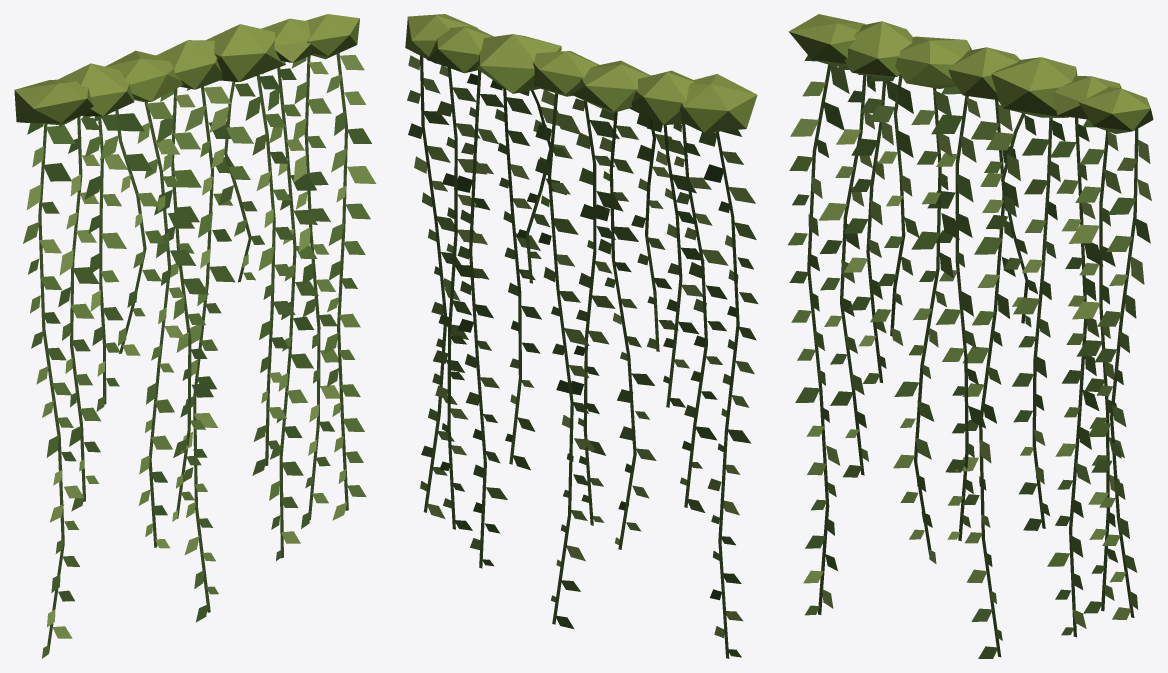
File: wf_vines.glb
3 renders of one model, left to right at view 1: azimuth 30°, elevation 25°; view 2: azimuth 150°, elevation 25°; view 3: azimuth 330°, elevation 25°, orthographic. The views are drawn at different scales.
Parts seen in each view (by area): view 1: wf_vines; view 2: wf_vines; view 3: wf_vines.
Boxes of the visible parts, x1=… form: wf_vines: x1=14, y1=14, x2=376, y2=658; wf_vines: x1=405, y1=14, x2=758, y2=658; wf_vines: x1=788, y1=14, x2=1153, y2=658.
Size of the model in its own units: 3.29 by 5.26 by 0.7343.
